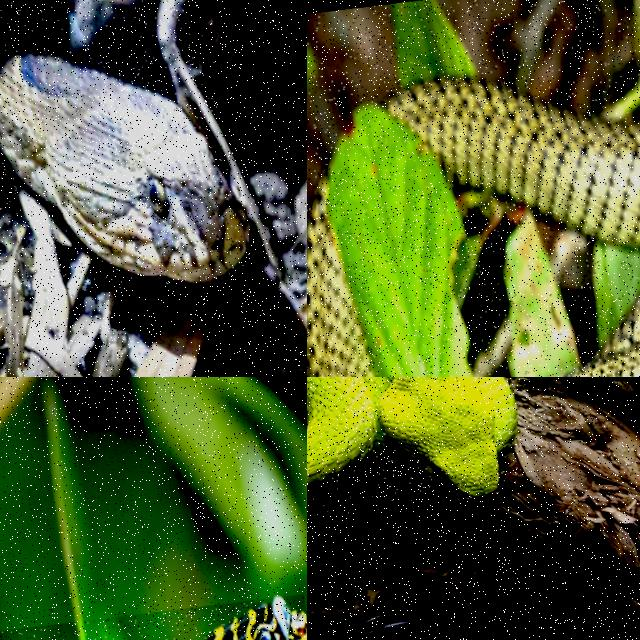Chrysopelea ornata: (387, 80, 639, 245), (208, 598, 306, 639)
Daboia siamensis: (0, 52, 249, 282)
Trimeresurus: (307, 377, 515, 503)
